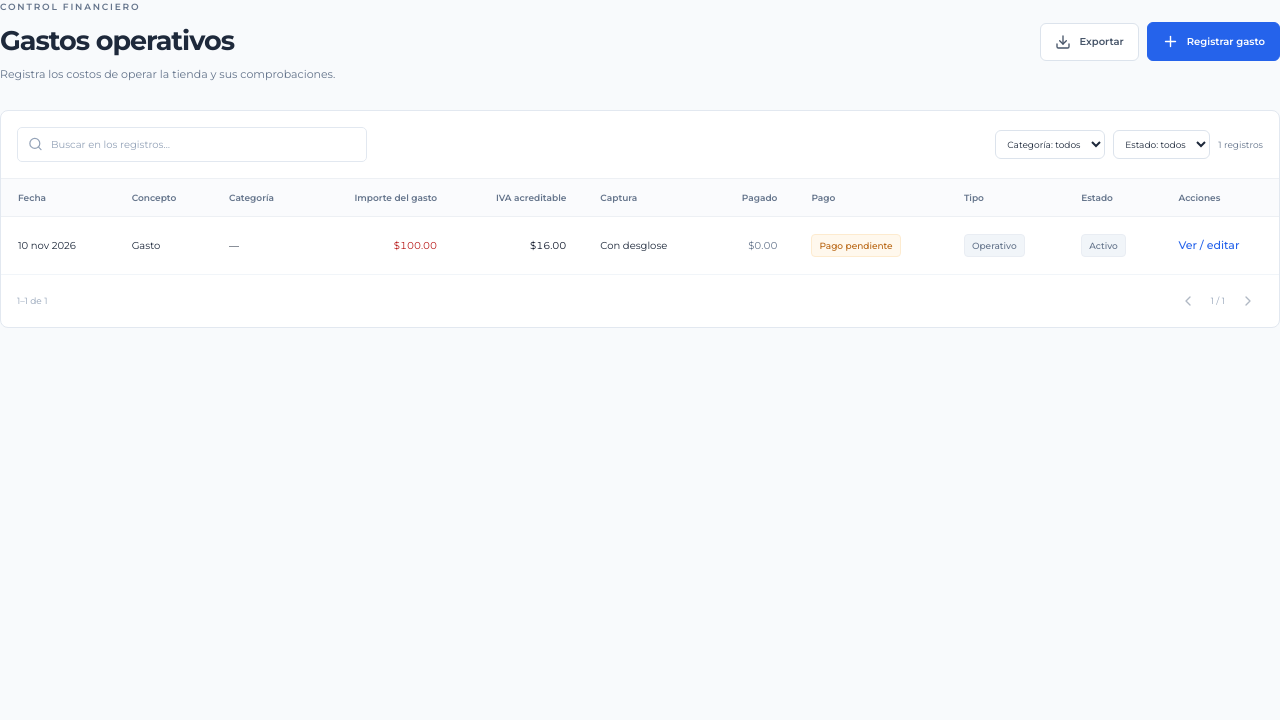
Test: permite cancelar un registro de expenses con motivo y muestra el resultado
The width and height of the screenshot is (1280, 720).
Click the button "Ver / editar": (1209, 246) x1=1178 y1=232 x2=1239 y2=259
(page scrolled)
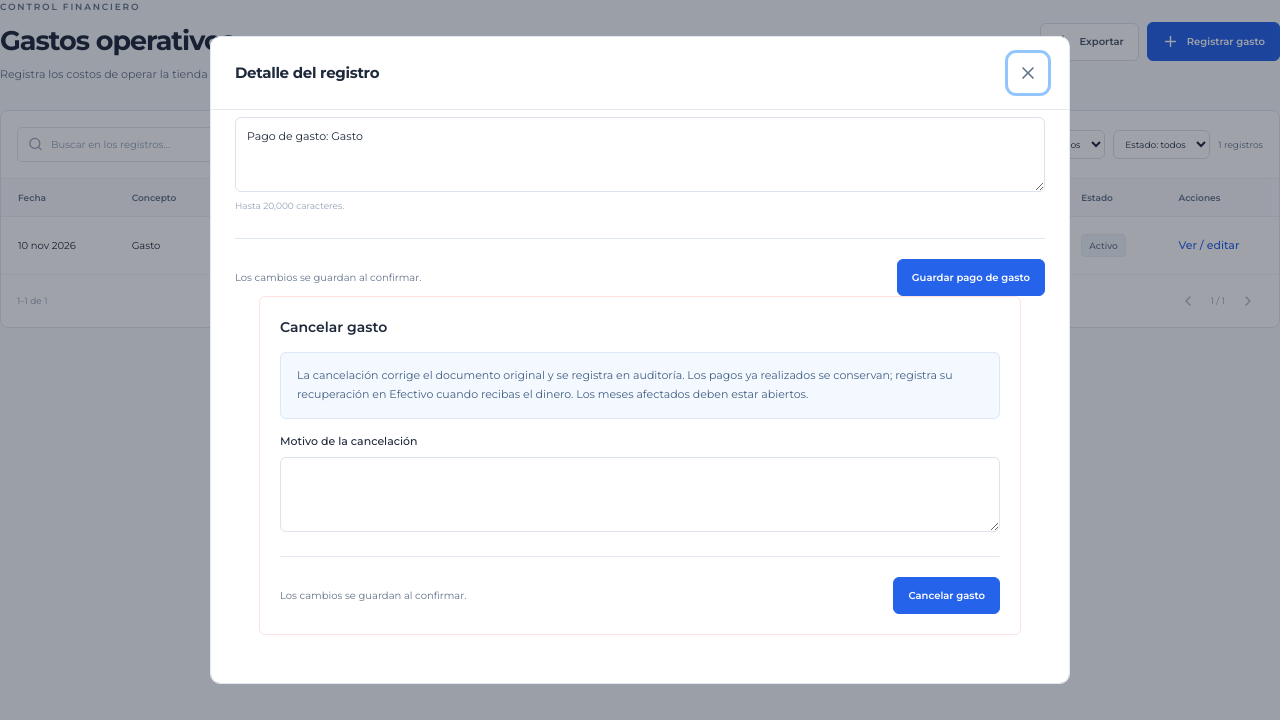
In the text box labelled "Motivo de la cancelación": (640, 494) x1=280 y1=457 x2=1000 y2=532, type "Registro capturado por error"
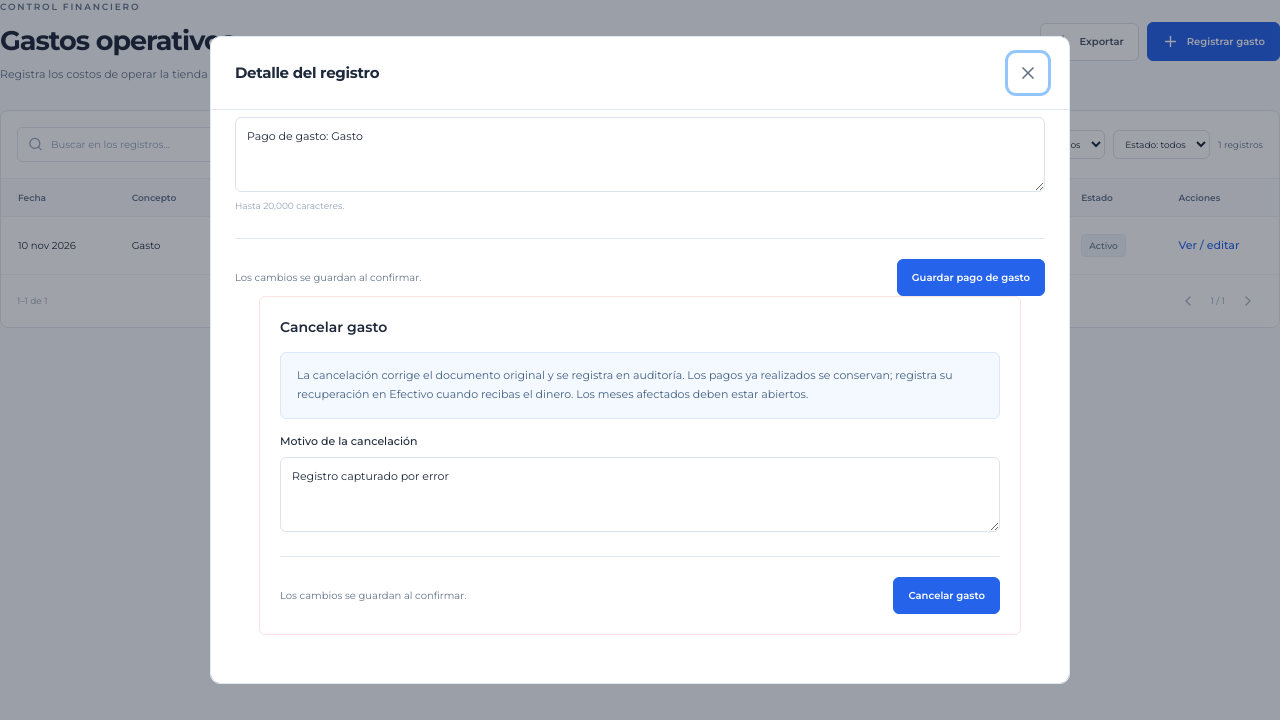
Click the button "Cancelar gasto": (947, 595) x1=893 y1=577 x2=1000 y2=614
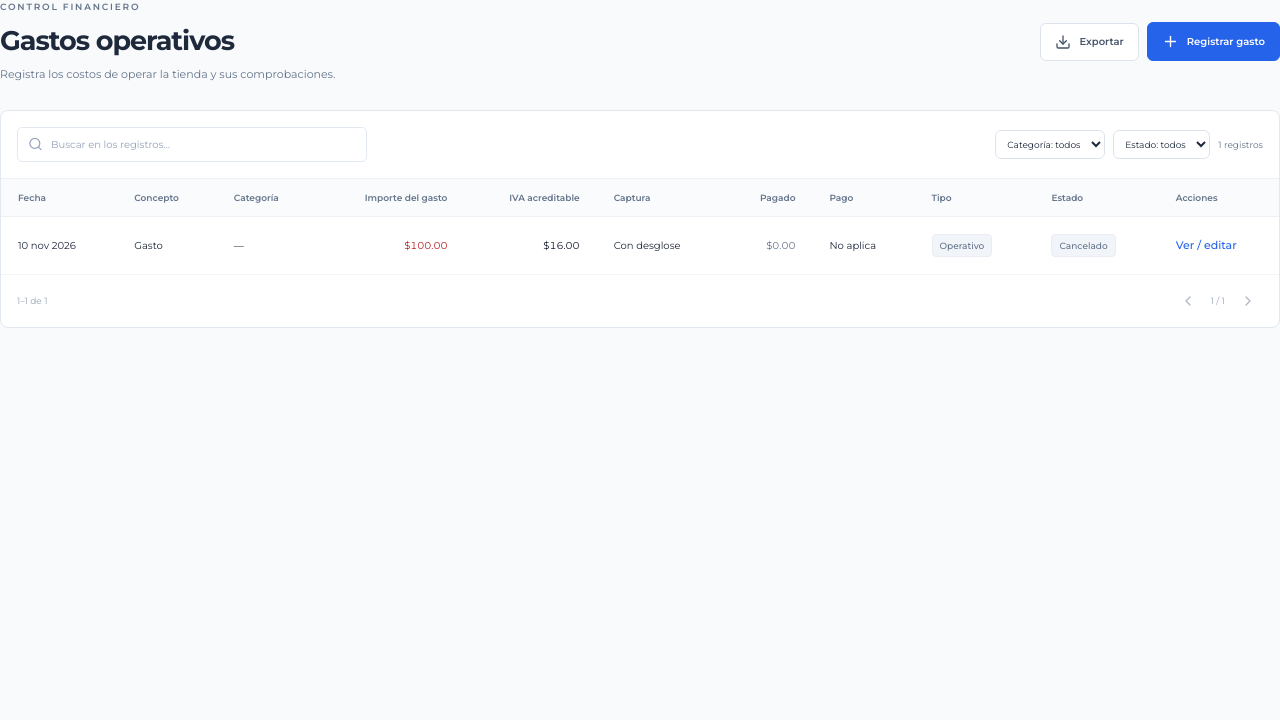
Result: the text "Cancelado" is shown at x1=1052 y1=234 x2=1116 y2=257
Click the button "Ver / editar": (1206, 246) x1=1176 y1=232 x2=1237 y2=259
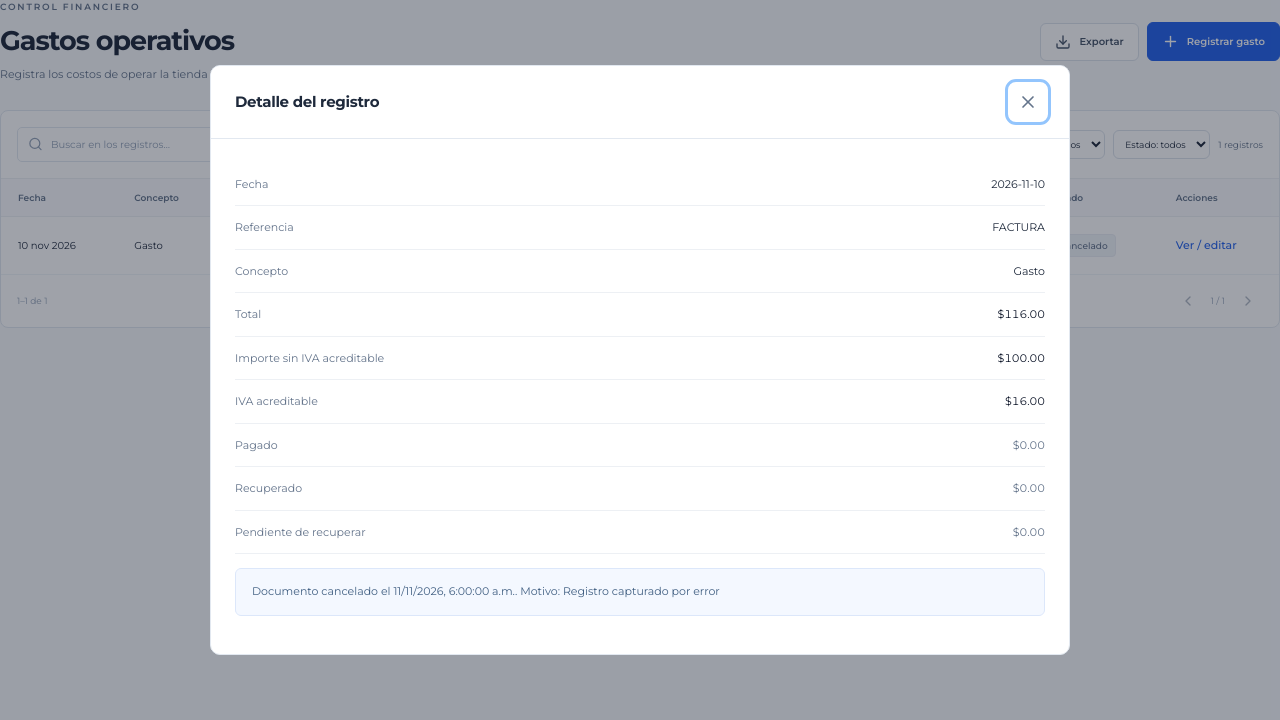
Expected: the heading "Cancelar gasto" is not shown
Result: the text "Documento cancelado el" is shown at x1=252 y1=584 x2=393 y2=598
